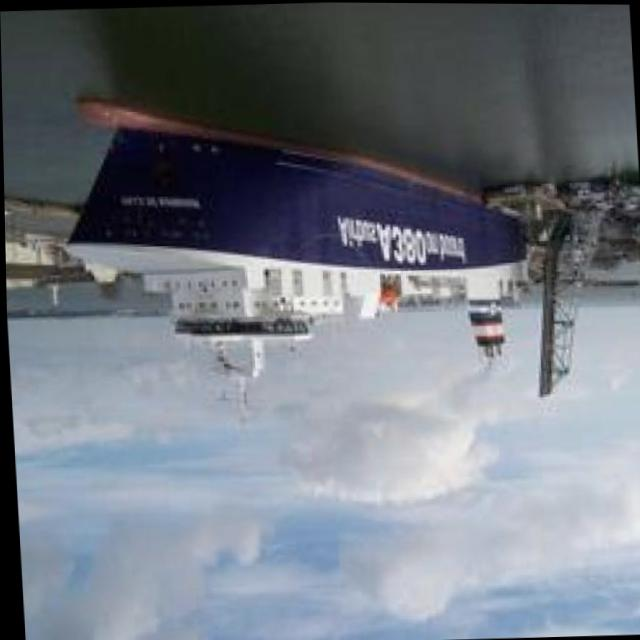ship2: (63, 96, 528, 420)
